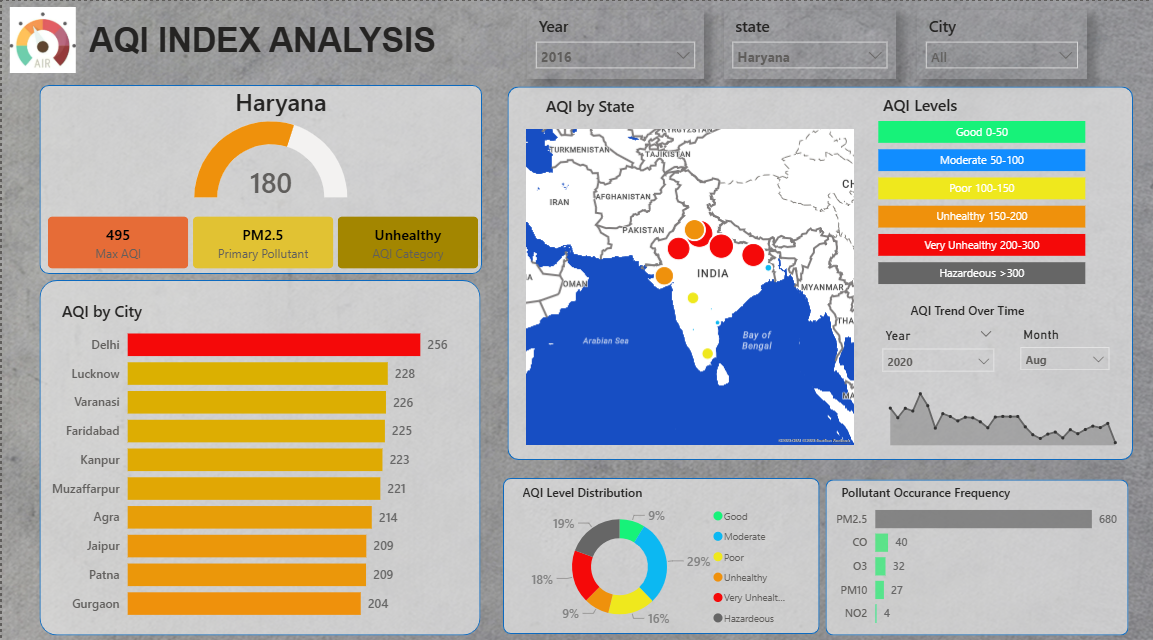

The page's visual inventory and layout, read from the dashboard file:
{"tool":"powerbi","page":{"name":"AQI INDEX Analysis","canvas":[1280,720],"ordinal":0},"visuals":[{"type":"shape","box":[16,86,492,210],"z":0},{"type":"textbox","box":[90,5,465,58.3],"z":1000},{"type":"slicer","fields":{"Values":["Calender Table.Year"]},"box":[582.5,9.2,197.5,55],"z":2000},{"type":"slicer","fields":{"Values":["day_wise_aqi_data.state"]},"box":[800.8,9.2,192.5,55],"z":3000},{"type":"slicer","fields":{"Values":["day_wise_aqi_data.area"]},"box":[1016.7,10,188.3,65],"z":4000},{"type":"cardVisual","fields":{"Data":["Max(day_wise_aqi_data.aqi_value)","day_wise_aqi_data.Primary Pollutant","day_wise_aqi_data.AQI Category KPI"]},"box":[21,213.5,492.5,70],"z":5000},{"type":"image","box":[0,0,89.5,73.7],"z":6000},{"type":"cardVisual","fields":{"Data":["day_wise_aqi_data.KPI Title"]},"box":[46,66,440,70],"z":7000},{"type":"shape","box":[561.7,95,695,415],"z":8000},{"type":"azureMap","fields":{"Category":["day_wise_aqi_data.state"],"Size":["day_wise_aqi_data.Avg AQI"]},"box":[576.7,136.7,375,361.7],"z":9000},{"type":"cardVisual","fields":{"Data":["day_wise_aqi_data.State Map Title"]},"box":[543.3,80,220,70],"z":10000},{"type":"barChart","fields":{"Category":["day_wise_aqi_data.AQI Category"],"Y":["day_wise_aqi_data.Label"]},"box":[968,120,240,200],"z":11000},{"type":"cardVisual","fields":{"Data":["day_wise_aqi_data.AQI  Level Title"]},"box":[910,86.7,220,56.7],"z":12000},{"type":"gauge","fields":{"Y":["day_wise_aqi_data.Avg AQI"]},"box":[116,118,300,96],"z":13000},{"type":"areaChart","fields":{"Category":["Calender Table.Date.Variation.Date Hierarchy.Day"],"Y":["day_wise_aqi_data.Avg AQI"]},"box":[971.7,407.7,280,90],"z":14000},{"type":"slicer","fields":{"Values":["Calender Table.Date.Variation.Date Hierarchy.Year"]},"box":[968,358,144,66],"z":15000},{"type":"slicer","fields":{"Values":["Calender Table.Month"]},"box":[1121.7,356.7,118.3,65],"z":16000},{"type":"cardVisual","fields":{"Data":["day_wise_aqi_data.Title for monthly chart"]},"box":[936,308,272,68],"z":17000},{"type":"shape","box":[0,303.3,490,395],"z":18000},{"type":"barChart","fields":{"Y":["day_wise_aqi_data.Avg AQI"],"Category":["day_wise_aqi_data.area"]},"box":[0,331.7,453.3,356.7],"z":19000},{"type":"cardVisual","fields":{"Data":["day_wise_aqi_data.Title By City"]},"box":[0,310,222.5,67.5],"z":20000},{"type":"shape","box":[556.7,530,351.7,173.3],"z":21000},{"type":"donutChart","fields":{"Category":["day_wise_aqi_data.AQI Category"],"Y":["day_wise_aqi_data.Count of Rows"]},"box":[576.7,551.7,308.3,153.3],"z":22000},{"type":"cardVisual","fields":{"Data":["day_wise_aqi_data.Donut Title"]},"box":[533.3,510,223.3,68.3],"z":23000},{"type":"shape","box":[915,531.7,336.7,173.3],"z":24000},{"type":"barChart","fields":{"Y":["day_wise_aqi_data.Count of Rows"],"Category":["day_wise_aqi_data.prominent_pollutants"]},"box":[920,541.7,325,165],"z":25000},{"type":"cardVisual","fields":{"Data":["day_wise_aqi_data.Pollutant Title"]},"box":[915,510,223.3,68.3],"z":26000}]}

Visuals, with their boxes in screenshot pixels (x1, y1, x2, y2), scaled from the page's 1280x720 canvas onto the 1153x640 screenshot:
shape: box=[14, 76, 458, 263]
textbox: box=[81, 4, 500, 56]
slicer - Calender Table.Year: box=[525, 8, 703, 57]
slicer - day_wise_aqi_data.state: box=[721, 8, 895, 57]
slicer - day_wise_aqi_data.area: box=[916, 9, 1085, 67]
cardVisual - Max(day_wise_aqi_data.aqi_value) x day_wise_aqi_data.Primary Pollutant: box=[19, 190, 463, 252]
image: box=[0, 0, 81, 66]
cardVisual - day_wise_aqi_data.KPI Title: box=[41, 59, 438, 121]
shape: box=[506, 84, 1132, 453]
azureMap - day_wise_aqi_data.state x day_wise_aqi_data.Avg AQI: box=[519, 122, 857, 443]
cardVisual - day_wise_aqi_data.State Map Title: box=[489, 71, 688, 133]
barChart - day_wise_aqi_data.AQI Category x day_wise_aqi_data.Label: box=[872, 107, 1088, 284]
cardVisual - day_wise_aqi_data.AQI  Level Title: box=[820, 77, 1018, 127]
gauge - day_wise_aqi_data.Avg AQI: box=[104, 105, 375, 190]
areaChart - Calender Table.Date.Variation.Date Hierarchy.Day x day_wise_aqi_data.Avg AQI: box=[875, 362, 1128, 442]
slicer - Calender Table.Date.Variation.Date Hierarchy.Year: box=[872, 318, 1002, 377]
slicer - Calender Table.Month: box=[1010, 317, 1117, 375]
cardVisual - day_wise_aqi_data.Title for monthly chart: box=[843, 274, 1088, 334]
shape: box=[0, 270, 441, 621]
barChart - day_wise_aqi_data.Avg AQI x day_wise_aqi_data.area: box=[0, 295, 408, 612]
cardVisual - day_wise_aqi_data.Title By City: box=[0, 276, 200, 336]
shape: box=[501, 471, 818, 625]
donutChart - day_wise_aqi_data.AQI Category x day_wise_aqi_data.Count of Rows: box=[519, 490, 797, 627]
cardVisual - day_wise_aqi_data.Donut Title: box=[480, 453, 682, 514]
shape: box=[824, 473, 1128, 627]
barChart - day_wise_aqi_data.Count of Rows x day_wise_aqi_data.prominent_pollutants: box=[829, 482, 1121, 628]
cardVisual - day_wise_aqi_data.Pollutant Title: box=[824, 453, 1025, 514]
